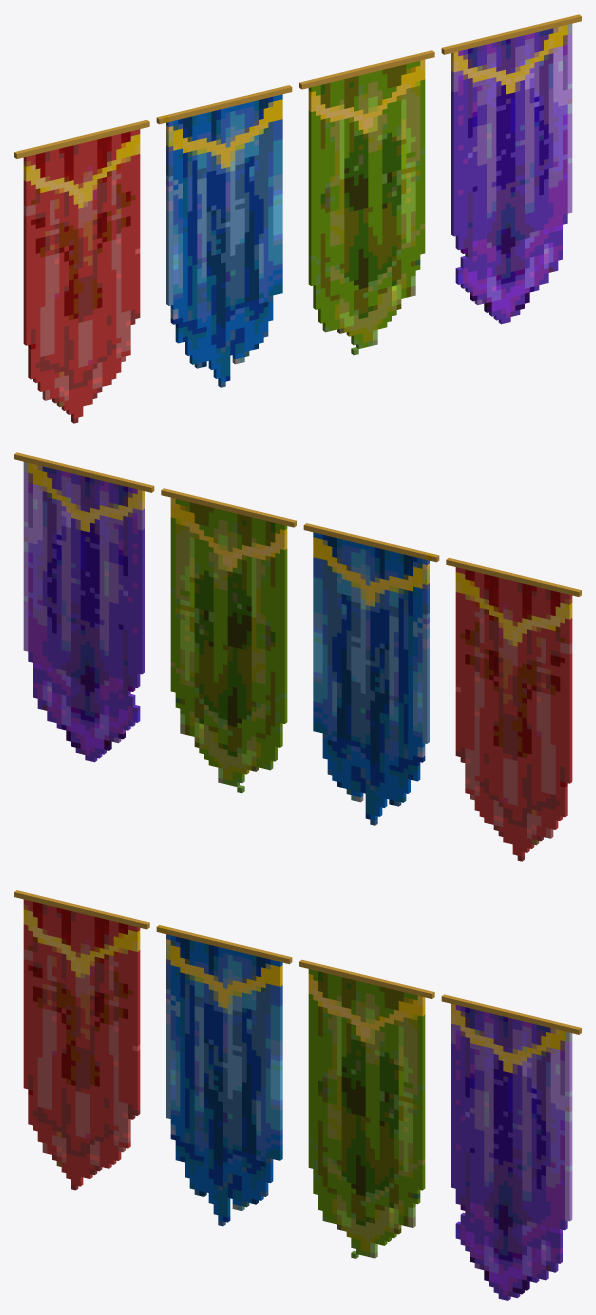
File: flags.obj
The picture shows the model from 3 angles, top to bottom: view 1: azimuth 30°, elevation 25°; view 2: azimuth 150°, elevation 25°; view 3: azimuth 330°, elevation 25°; orthographic projection.
Parts seen in each view (by area): view 1: pxArt(6); view 2: pxArt(6); view 3: pxArt(6).
Part boxes in pixels (box(x1,y1,x2,y2)): pxArt(6): box(14, 14, 581, 423); pxArt(6): box(14, 452, 581, 861); pxArt(6): box(14, 890, 581, 1300).
Bounding box in the file's own units: 11.9 × 5.8 × 0.1.
1 material, 1 textured.
